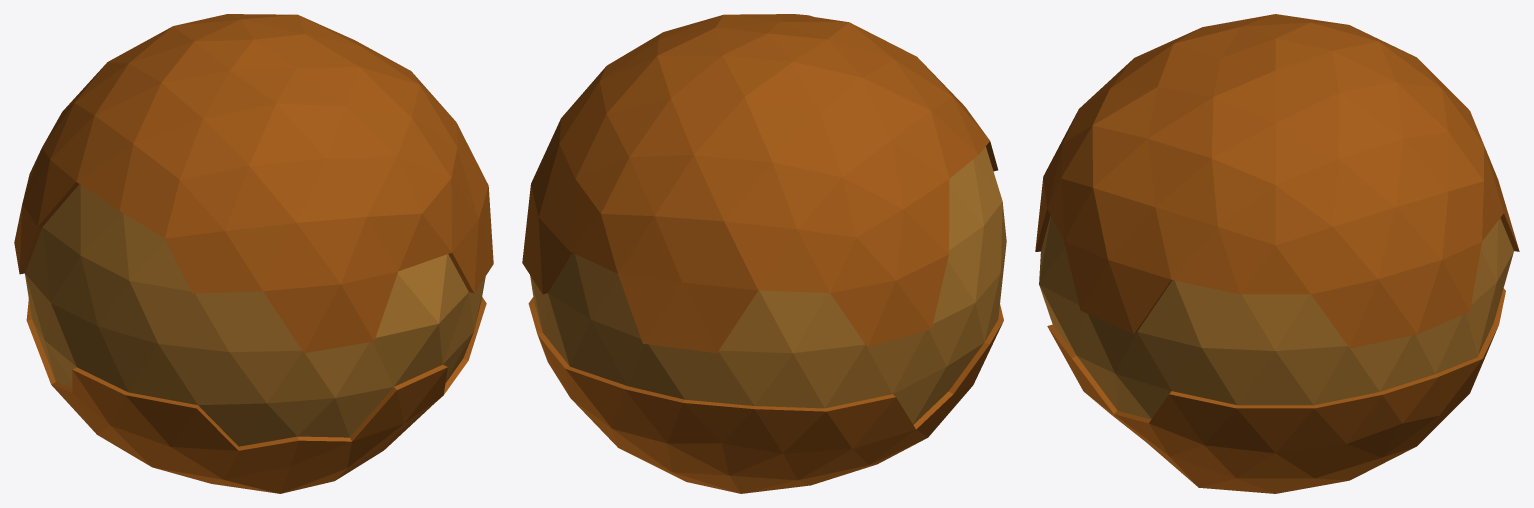
Rendered from venus.glb.
The picture shows the model from 3 angles, left to right: view 1: azimuth 30°, elevation 25°; view 2: azimuth 150°, elevation 25°; view 3: azimuth 270°, elevation 25°; orthographic projection. The views are drawn at different scales.
Visible parts, largest first — view 1: Icosphere; view 2: Icosphere; view 3: Icosphere.
Part boxes in pixels (x1,y1,x2,y2): Icosphere: (14, 14, 493, 493); Icosphere: (522, 14, 1006, 493); Icosphere: (1035, 14, 1519, 493).
Size of the model in its own units: 1.18 by 1.18 by 1.22.
